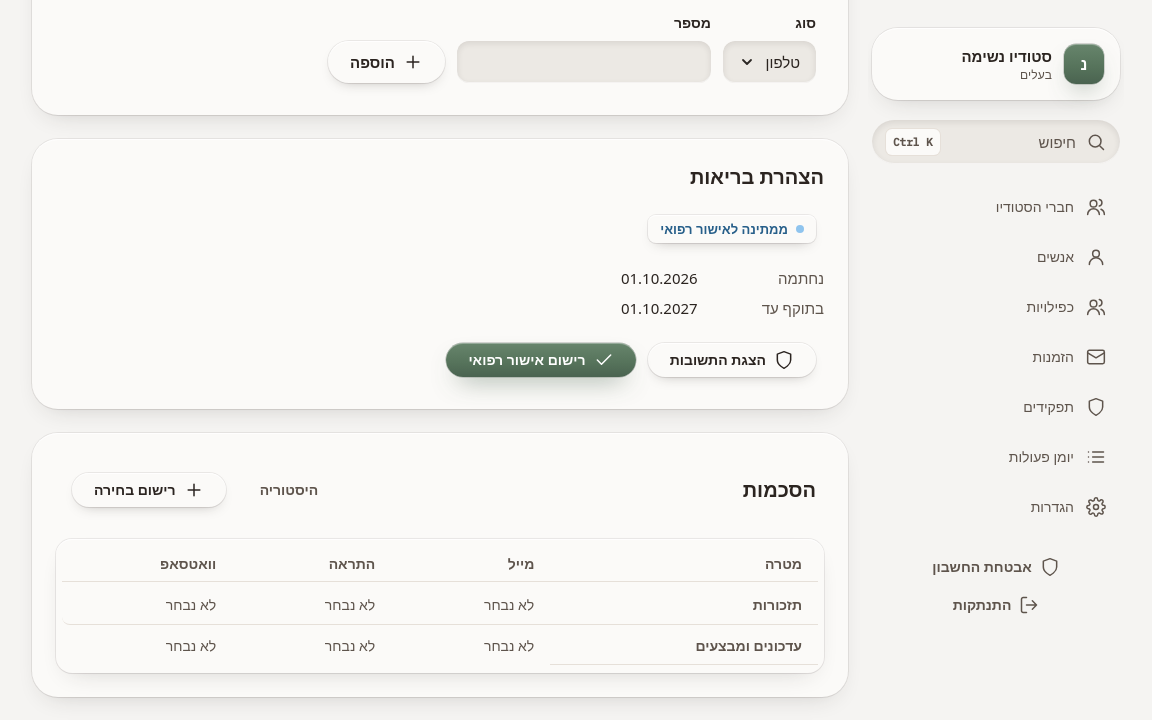
the person card's health declaration (docs/31 sections 5 and 13) › explains a refused approval
This screenshot has width=1152, height=720.
(page scrolled)
Click the button "רישום אישור רפואי": coordinates (541, 360) [446, 343, 636, 377]
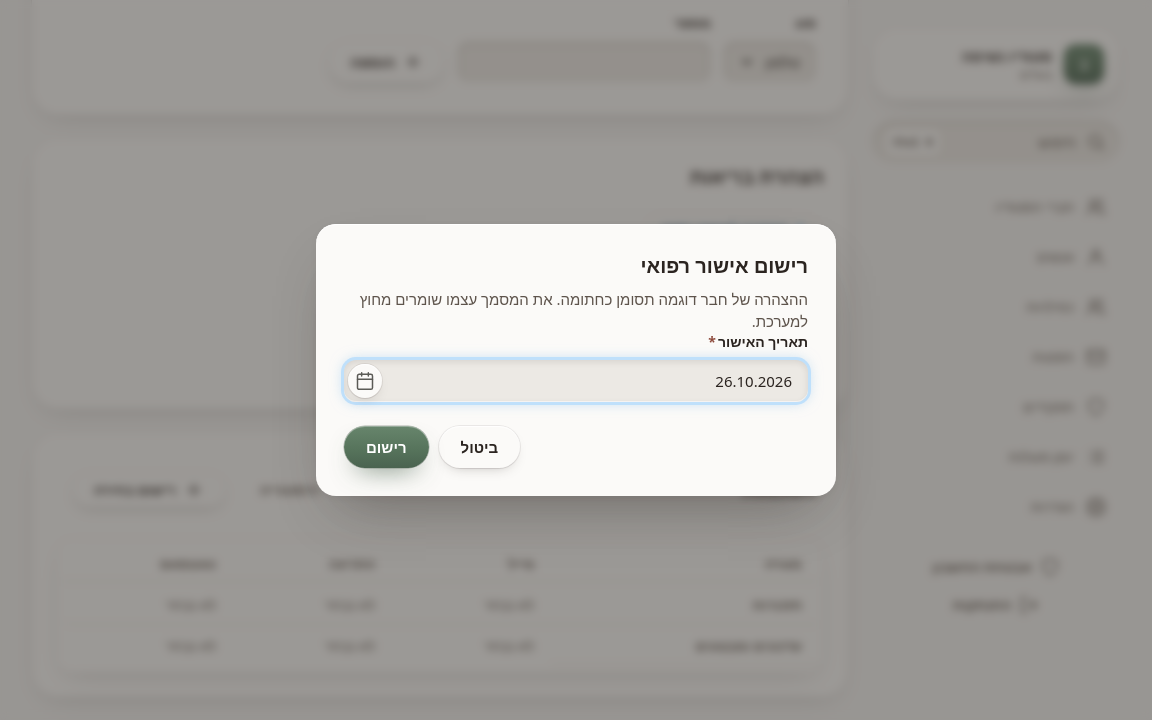
Click the button "רישום": coordinates (386, 447) [344, 426, 429, 468]
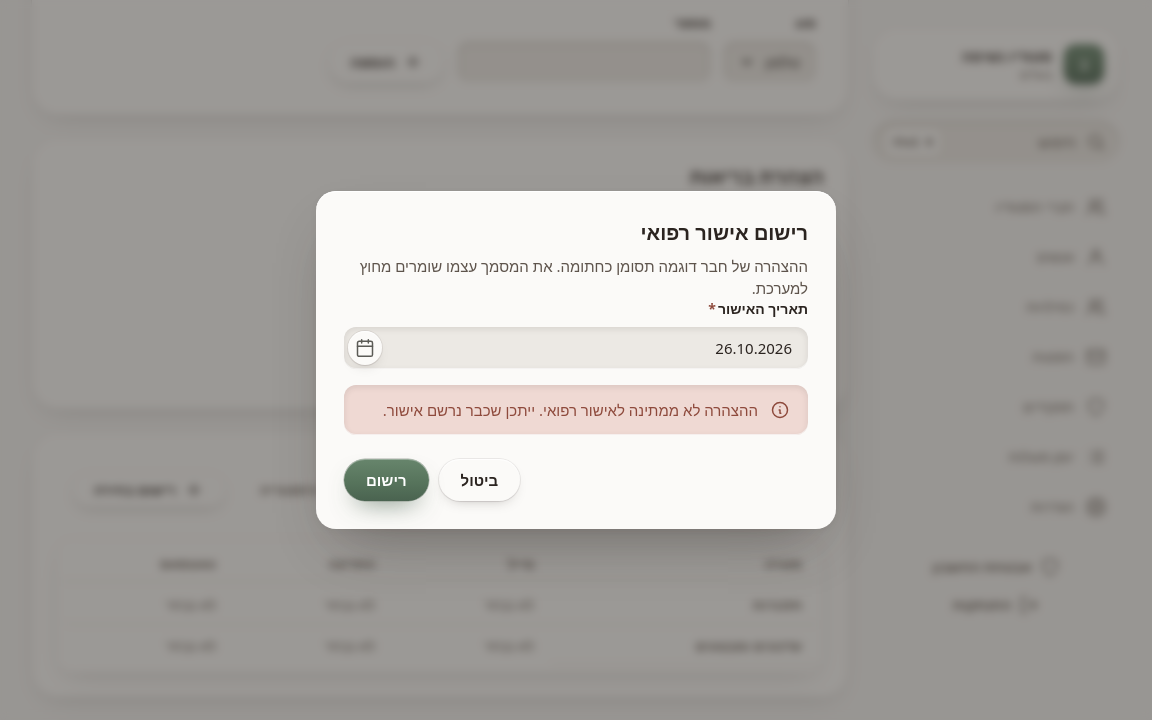
Expected: the text "ההצהרה לא ממתינה לאישור רפואי. ייתכן שכבר נרשם אישור." is shown, [383, 399, 758, 421]
